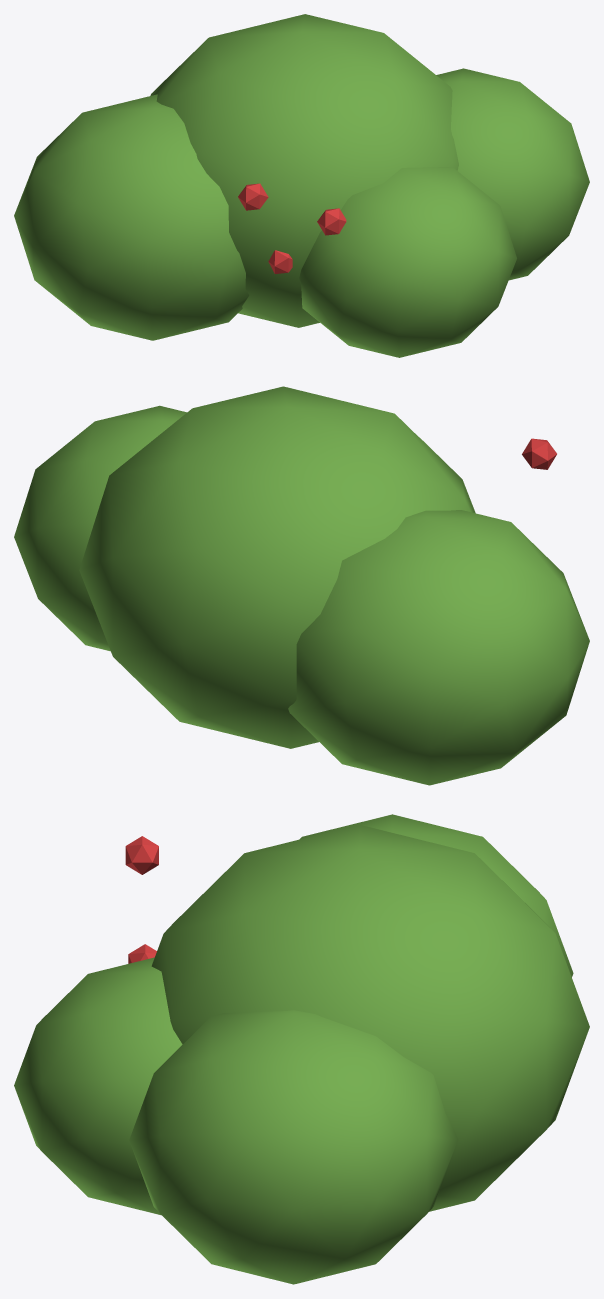
Rendered from bush.glb.
The picture shows the model from 3 angles, top to bottom: view 1: azimuth 30°, elevation 25°; view 2: azimuth 150°, elevation 25°; view 3: azimuth 270°, elevation 25°; orthographic projection. The views are drawn at different scales.
Parts seen in each view (by area): view 1: bush; view 2: bush; view 3: bush.
Boxes of the visible parts, <box> form: bush: <box>14,14,589,357</box>; bush: <box>14,386,589,785</box>; bush: <box>14,814,589,1284</box>.
Bounding box in the file's own units: 2.25 × 1.19 × 1.75.
